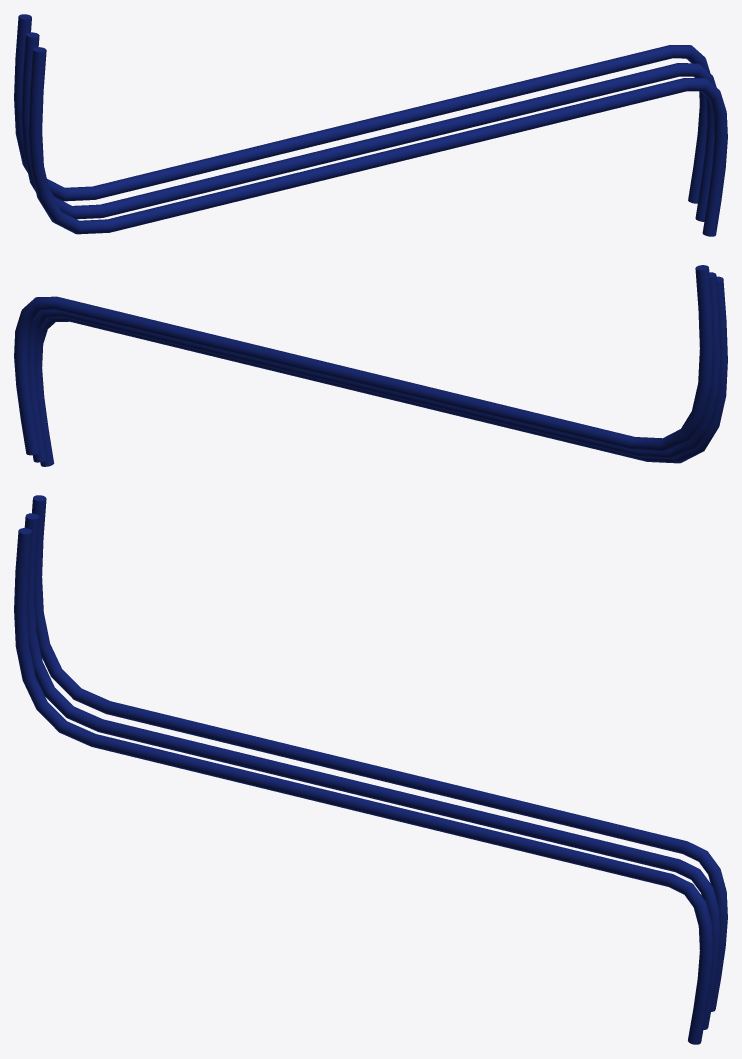
The model's file is TubesSmooth01_Mapa01.FBX.
3 views of the same model, one above another, from view 1: azimuth 30°, elevation 25°; view 2: azimuth 150°, elevation 25°; view 3: azimuth 330°, elevation 25° (orthographic).
Parts seen in each view (by area): view 1: Line003, Line001, Line002; view 2: Line001, Line002, Line003; view 3: Line003, Line001, Line002.
Part boxes in pixels (x1=…): Line003: x1=28, y1=47, x2=727, y2=236; Line001: x1=14, y1=14, x2=710, y2=203; Line002: x1=21, y1=32, x2=716, y2=221; Line001: x1=14, y1=265, x2=713, y2=455; Line002: x1=27, y1=272, x2=720, y2=462; Line003: x1=35, y1=276, x2=727, y2=466; Line003: x1=14, y1=528, x2=713, y2=1044; Line001: x1=32, y1=495, x2=727, y2=1011; Line002: x1=24, y1=513, x2=720, y2=1029.
Size of the model in its own units: 1045 by 532 by 57.66.
